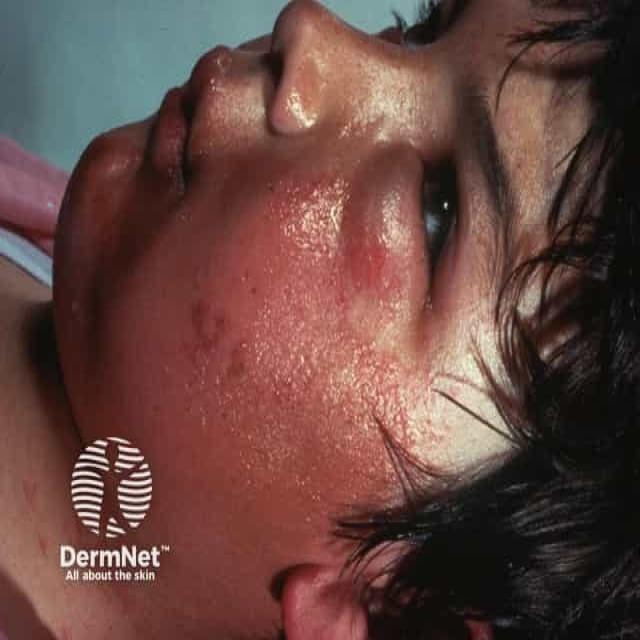Eczema: (85, 166, 402, 521)
